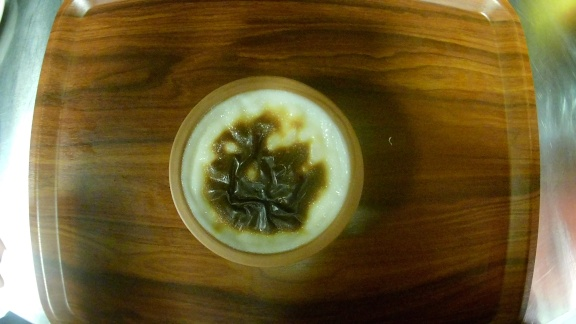sutlac: (167, 75, 367, 267)
